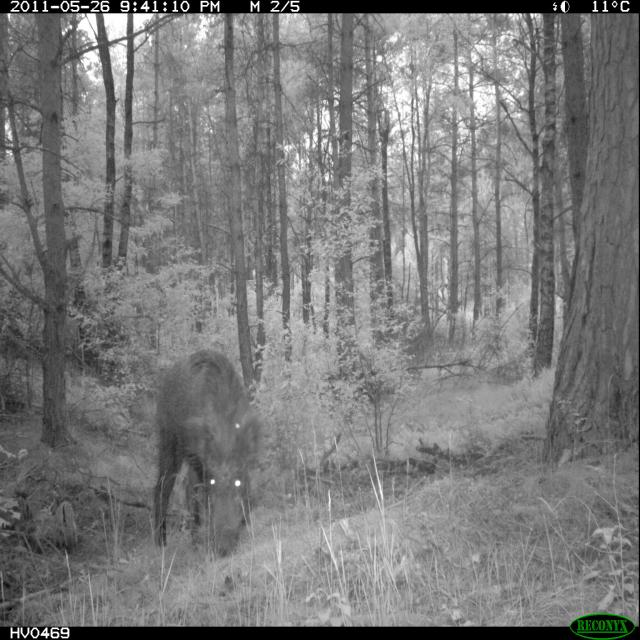boar: (136, 334, 270, 547)
